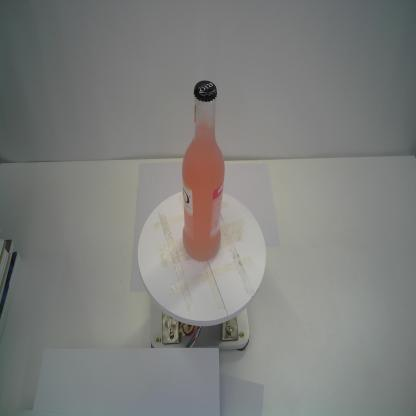Alcohol: (182, 79, 225, 263)
